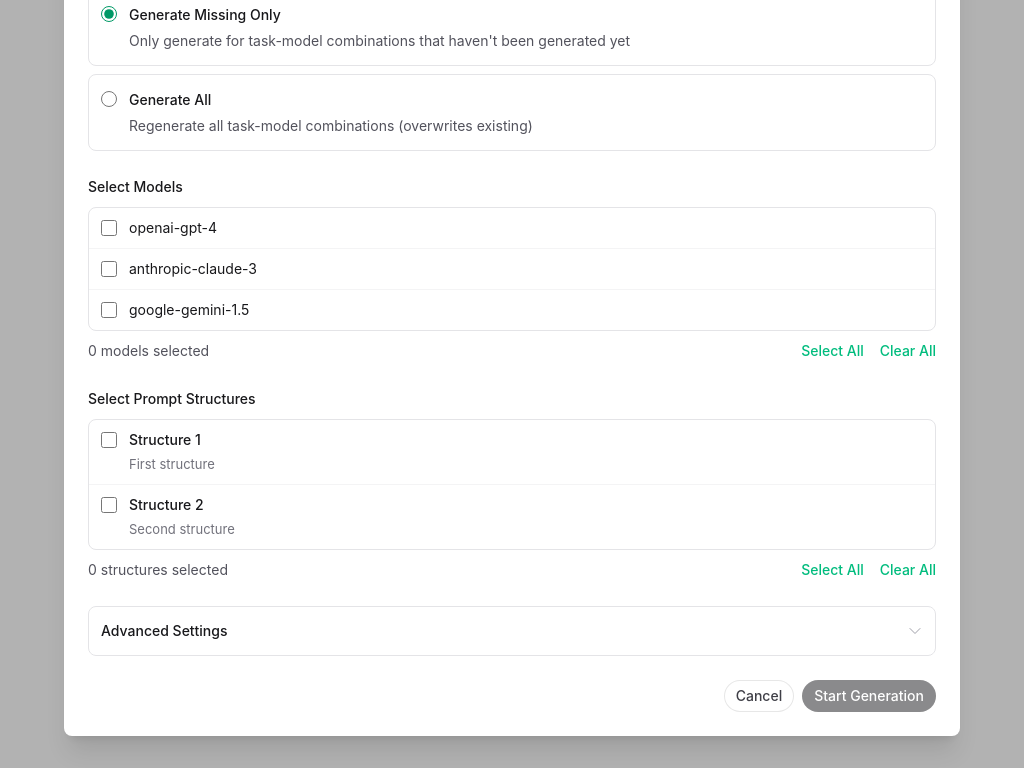
Test: GenerationControlModal › Structure Selection › handles clear all structures
This screenshot has width=1024, height=768.
(page scrolled)
Expected: the text "Structure 1" is shown, [129,431,201,448]
Click the button "Select All" in the row of "0 structures selected": (832, 570) [801,561,864,579]
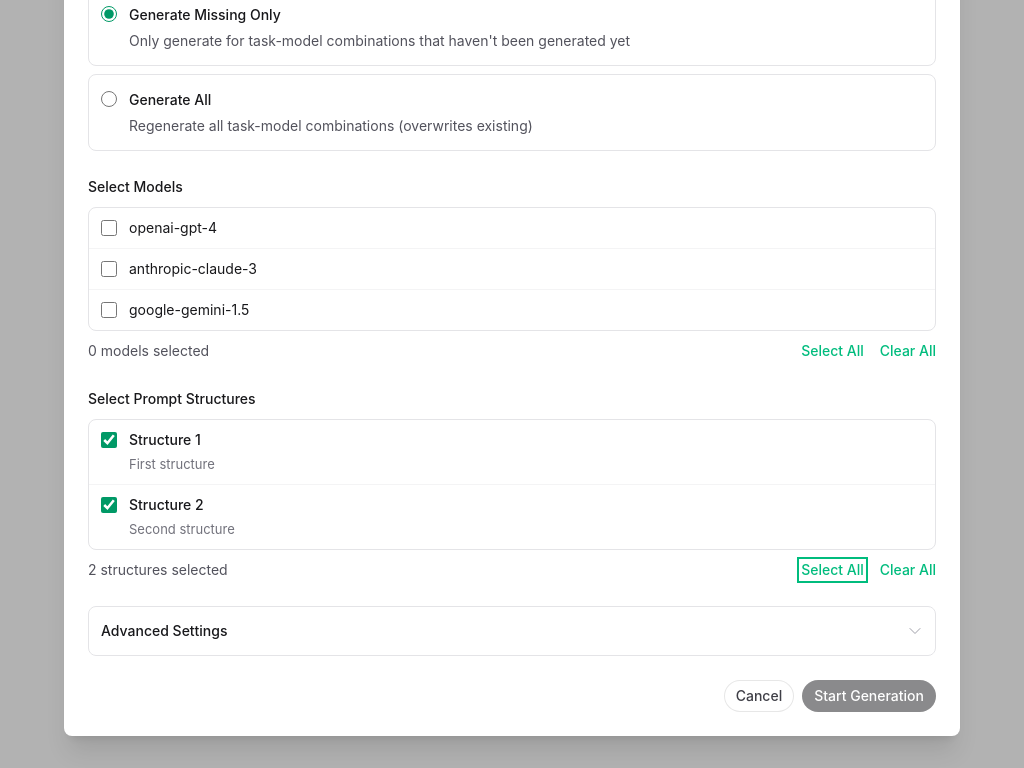
Click the button "Clear All" in the row of "2 structures selected": (908, 570) [880,561,936,579]
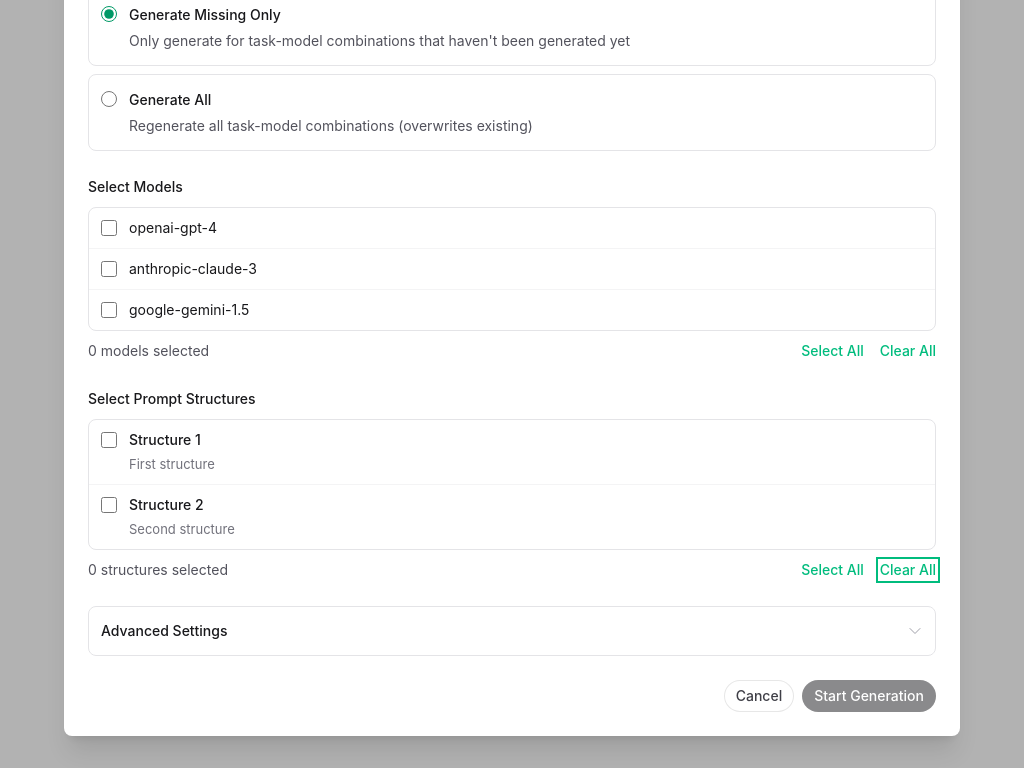
Result: the checkbox with id "structure-structure1" is not checked at [101,432,117,448]
Result: the checkbox with id "structure-structure2" is not checked at [101,497,117,513]
